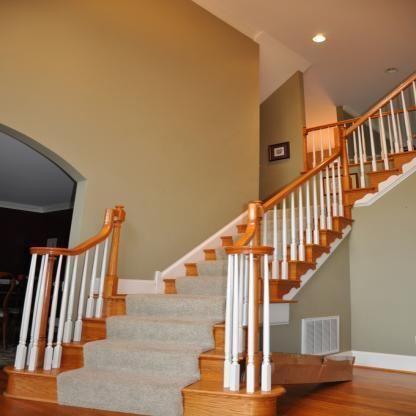stair: (65, 244, 255, 416)
